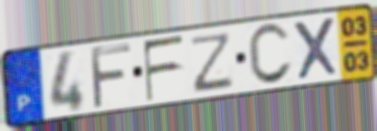4: (47, 48, 87, 114)
C: (246, 21, 295, 88)
F: (88, 41, 134, 112), (141, 33, 186, 105)
X: (291, 15, 342, 82)
Z: (191, 30, 235, 95)
